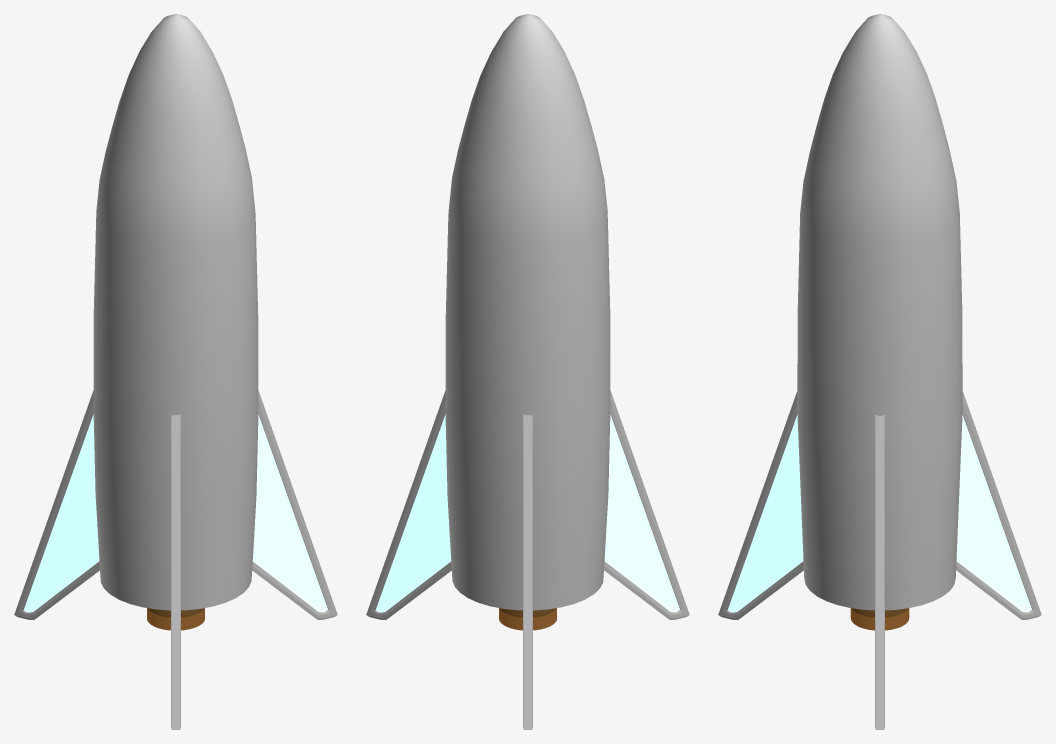
Rendered from rocket.gltf.
3 renders of one model, left to right at view 1: azimuth 30°, elevation 25°; view 2: azimuth 150°, elevation 25°; view 3: azimuth 270°, elevation 25°, orthographic.
Parts seen in each view (by area): view 1: body, wing2, wing1, wing3, nozzle; view 2: body, wing3, wing1, wing2, nozzle; view 3: body, wing3, wing2, wing1, nozzle.
Boxes of the visible parts, x1,y1,x2,y2 form: body: (93, 14, 258, 610); wing2: (14, 390, 99, 619); wing1: (252, 390, 337, 619); wing3: (171, 414, 180, 729); nozzle: (147, 608, 204, 630); body: (445, 14, 610, 610); wing3: (604, 390, 689, 619); wing1: (366, 390, 451, 619); wing2: (523, 414, 532, 729); nozzle: (499, 608, 556, 630); body: (797, 14, 962, 610); wing3: (718, 391, 803, 619); wing2: (956, 391, 1041, 619); wing1: (875, 415, 884, 729); nozzle: (850, 608, 909, 630).
Size of the model in its own units: 22.09 by 55.58 by 25.51.
